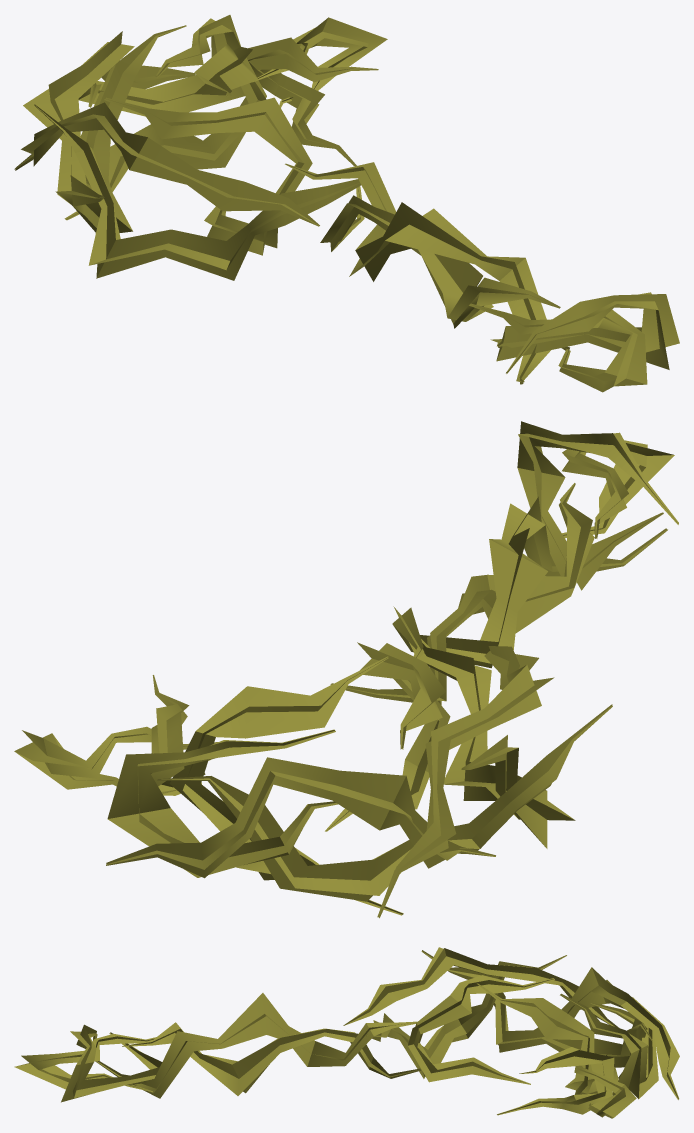
The model's file is etc_gargoyle_weapon_aura_axe_elec_eff.glb.
3 renders of one model, top to bottom at view 1: azimuth 30°, elevation 25°; view 2: azimuth 150°, elevation 25°; view 3: azimuth 270°, elevation 25°, orthographic. The views are drawn at different scales.
Bounding box in the file's own units: 1.48 × 0.5466 × 2.95.
